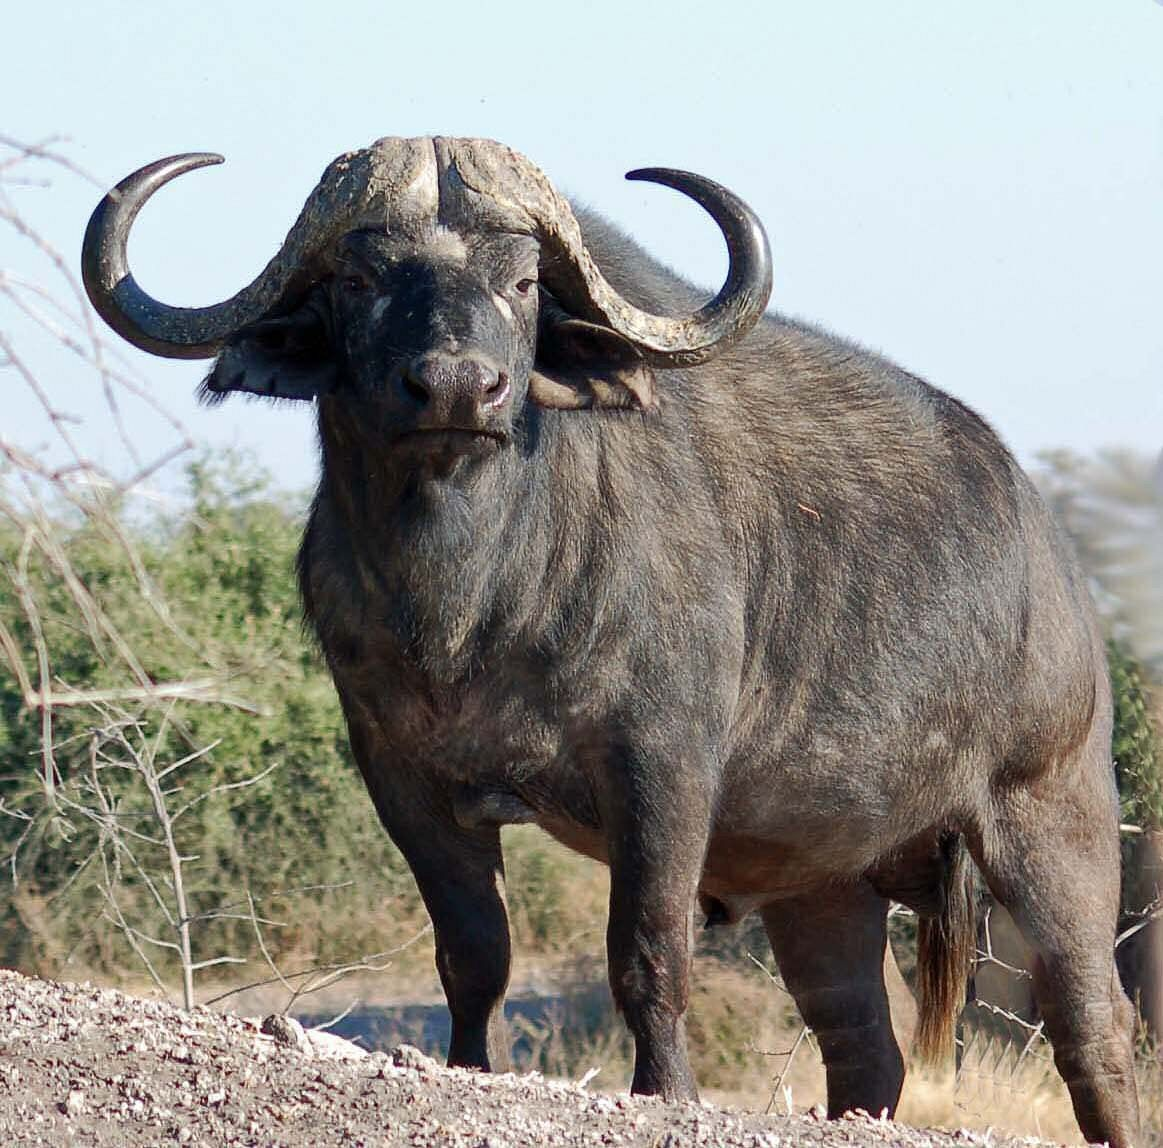buffalo: (81, 135, 1137, 1148)
